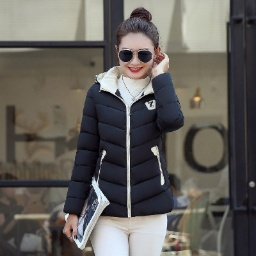face: (111, 5, 164, 88)
